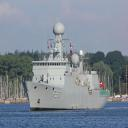Fragata: (22, 11, 112, 113)
